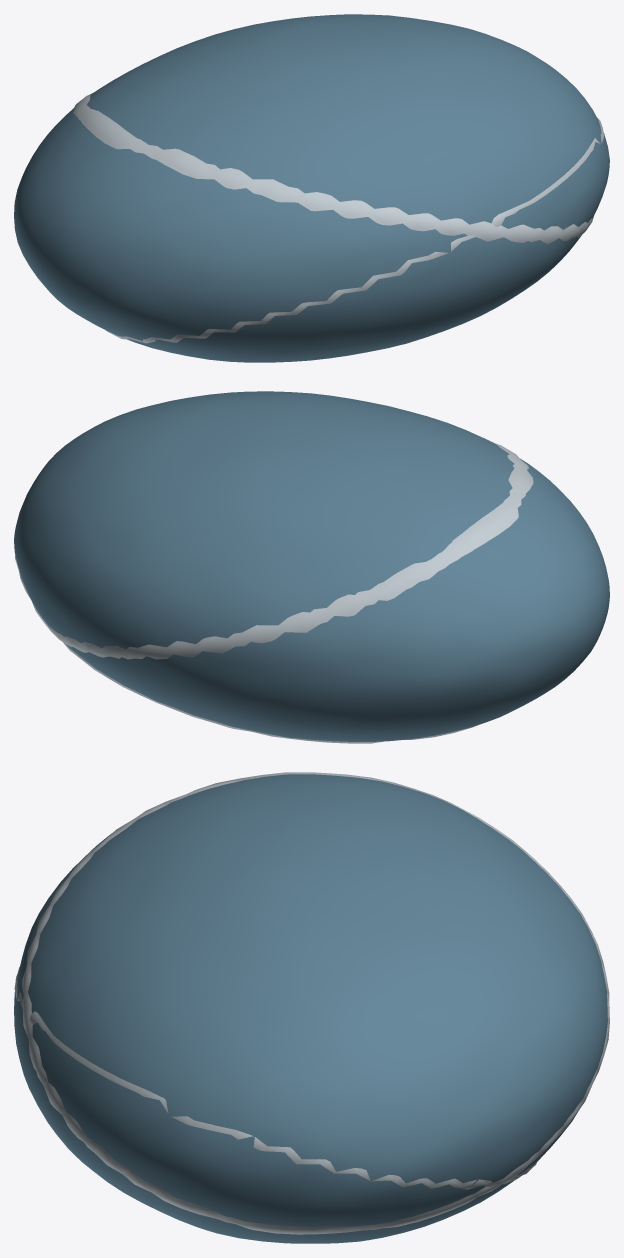
Rendered from RockRiver.fbx.
The picture shows the model from 3 angles, top to bottom: view 1: azimuth 30°, elevation 25°; view 2: azimuth 150°, elevation 25°; view 3: azimuth 270°, elevation 25°; orthographic projection. The views are drawn at different scales.
Parts seen in each view (by area): view 1: RockRiver_Body, RockRiver_Band; view 2: RockRiver_Body, RockRiver_Band; view 3: RockRiver_Body, RockRiver_Band.
Part boxes in pixels (x1=…): RockRiver_Body: x1=14, y1=14, x2=609, y2=362; RockRiver_Band: x1=73, y1=92, x2=604, y2=343; RockRiver_Body: x1=14, y1=391, x2=609, y2=741; RockRiver_Band: x1=15, y1=438, x2=533, y2=743; RockRiver_Body: x1=14, y1=774, x2=607, y2=1243; RockRiver_Band: x1=14, y1=772, x2=609, y2=1234.
Bounding box in the file's own units: 261 × 124 × 200.
